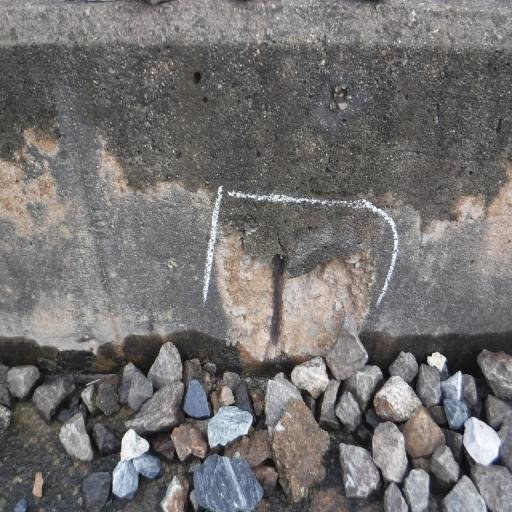exposed_rebar: (270, 254, 284, 345)
